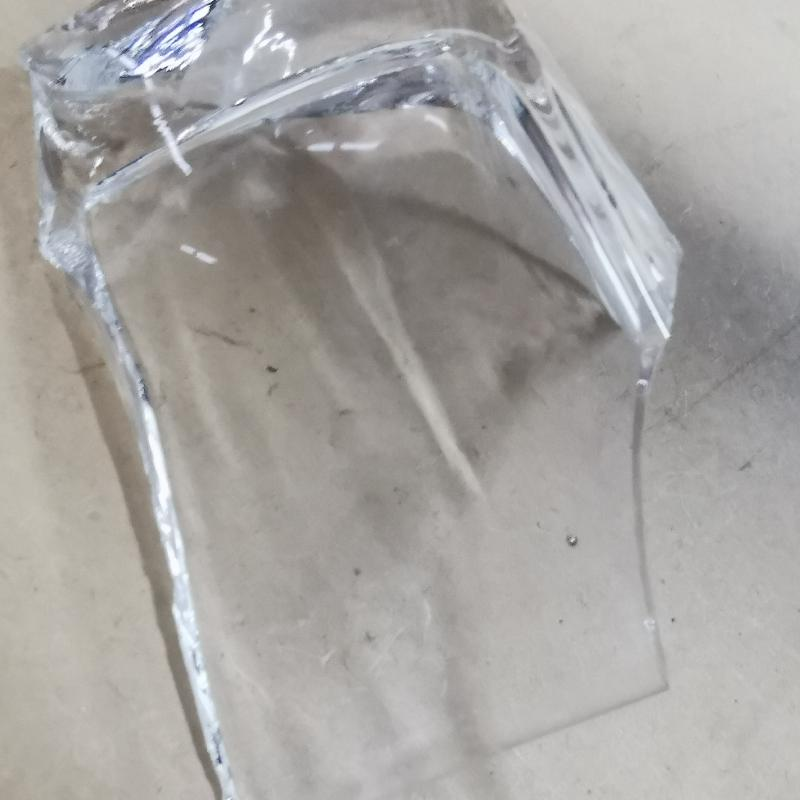glass: (12, 1, 690, 799)
